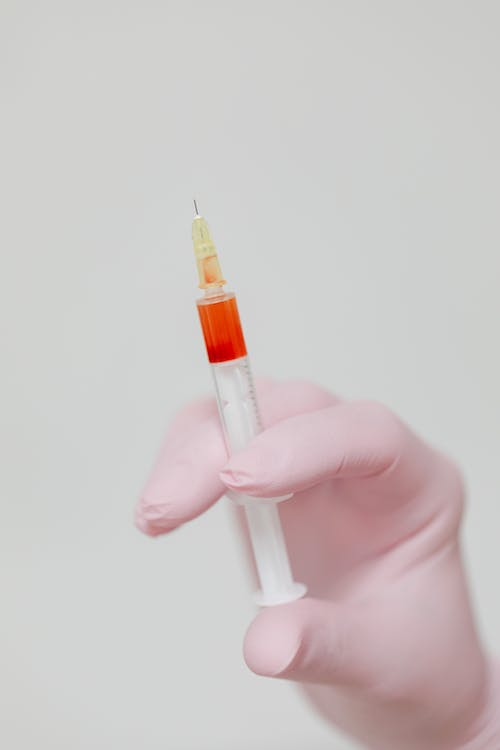blood: (190, 253, 249, 365)
